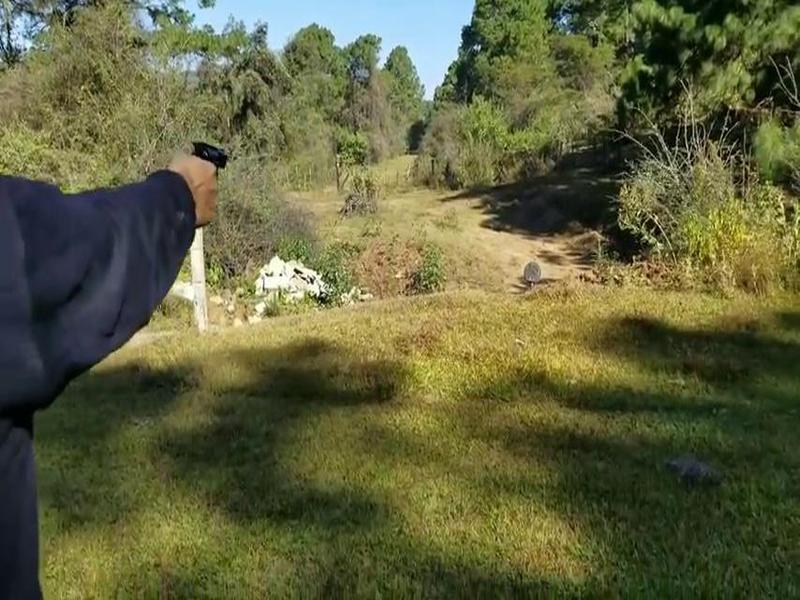Revolver: (166, 133, 237, 198)
